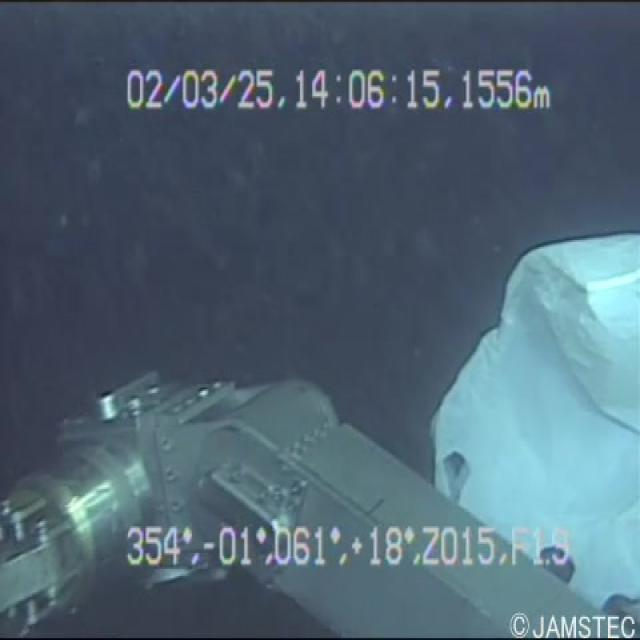plastic: (413, 185, 639, 610)
